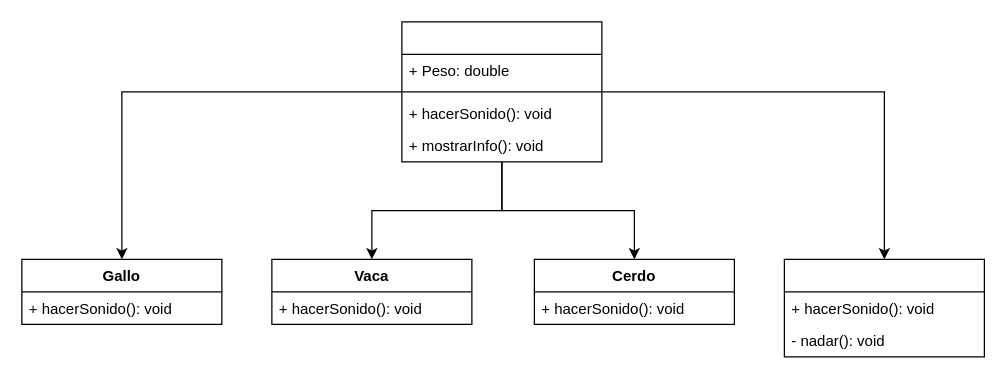
The diagram is 1006 pixels wide and 383 high, and some of its shapes have lost their labels. Each missing label, with the box of its shape:
Animal: (401, 21, 602, 162)
Pato: (783, 258, 984, 357)
